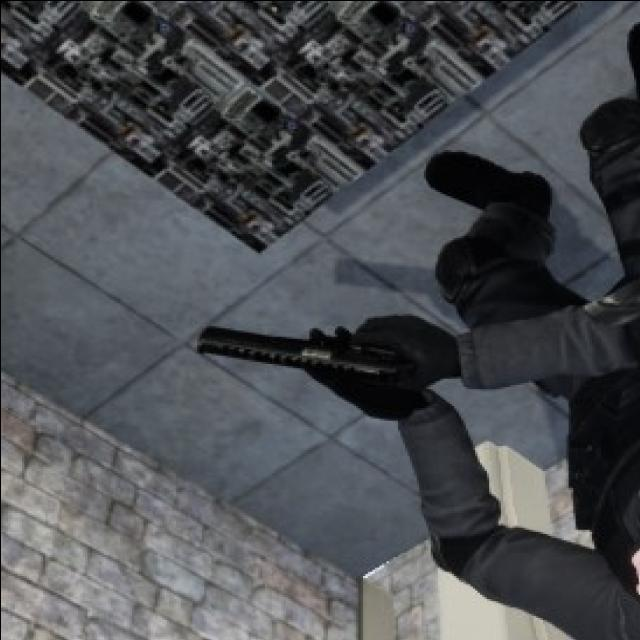pistol: (192, 311, 404, 393)
